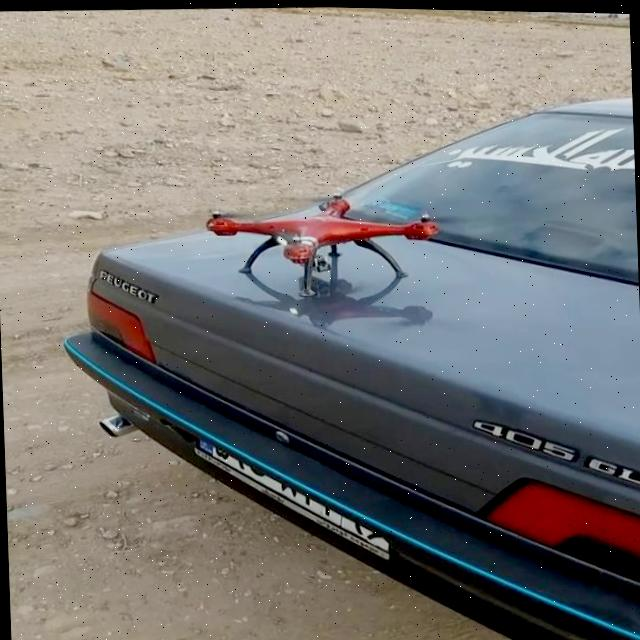drone: (196, 177, 468, 306)
